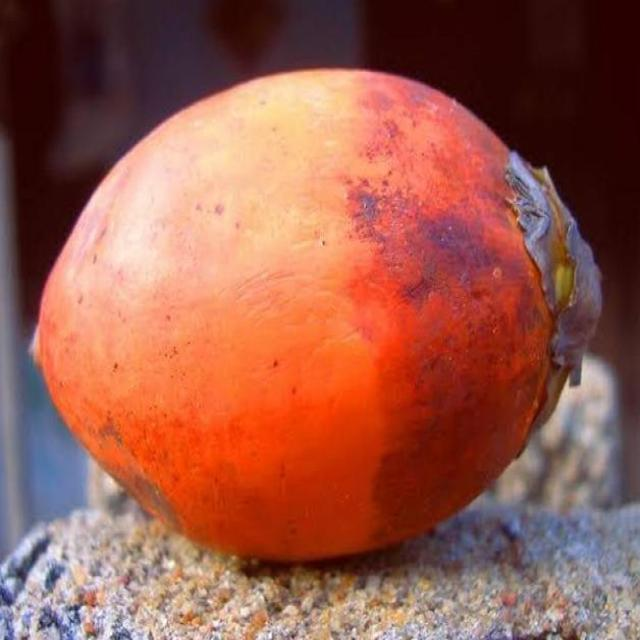good: (32, 69, 600, 567)
